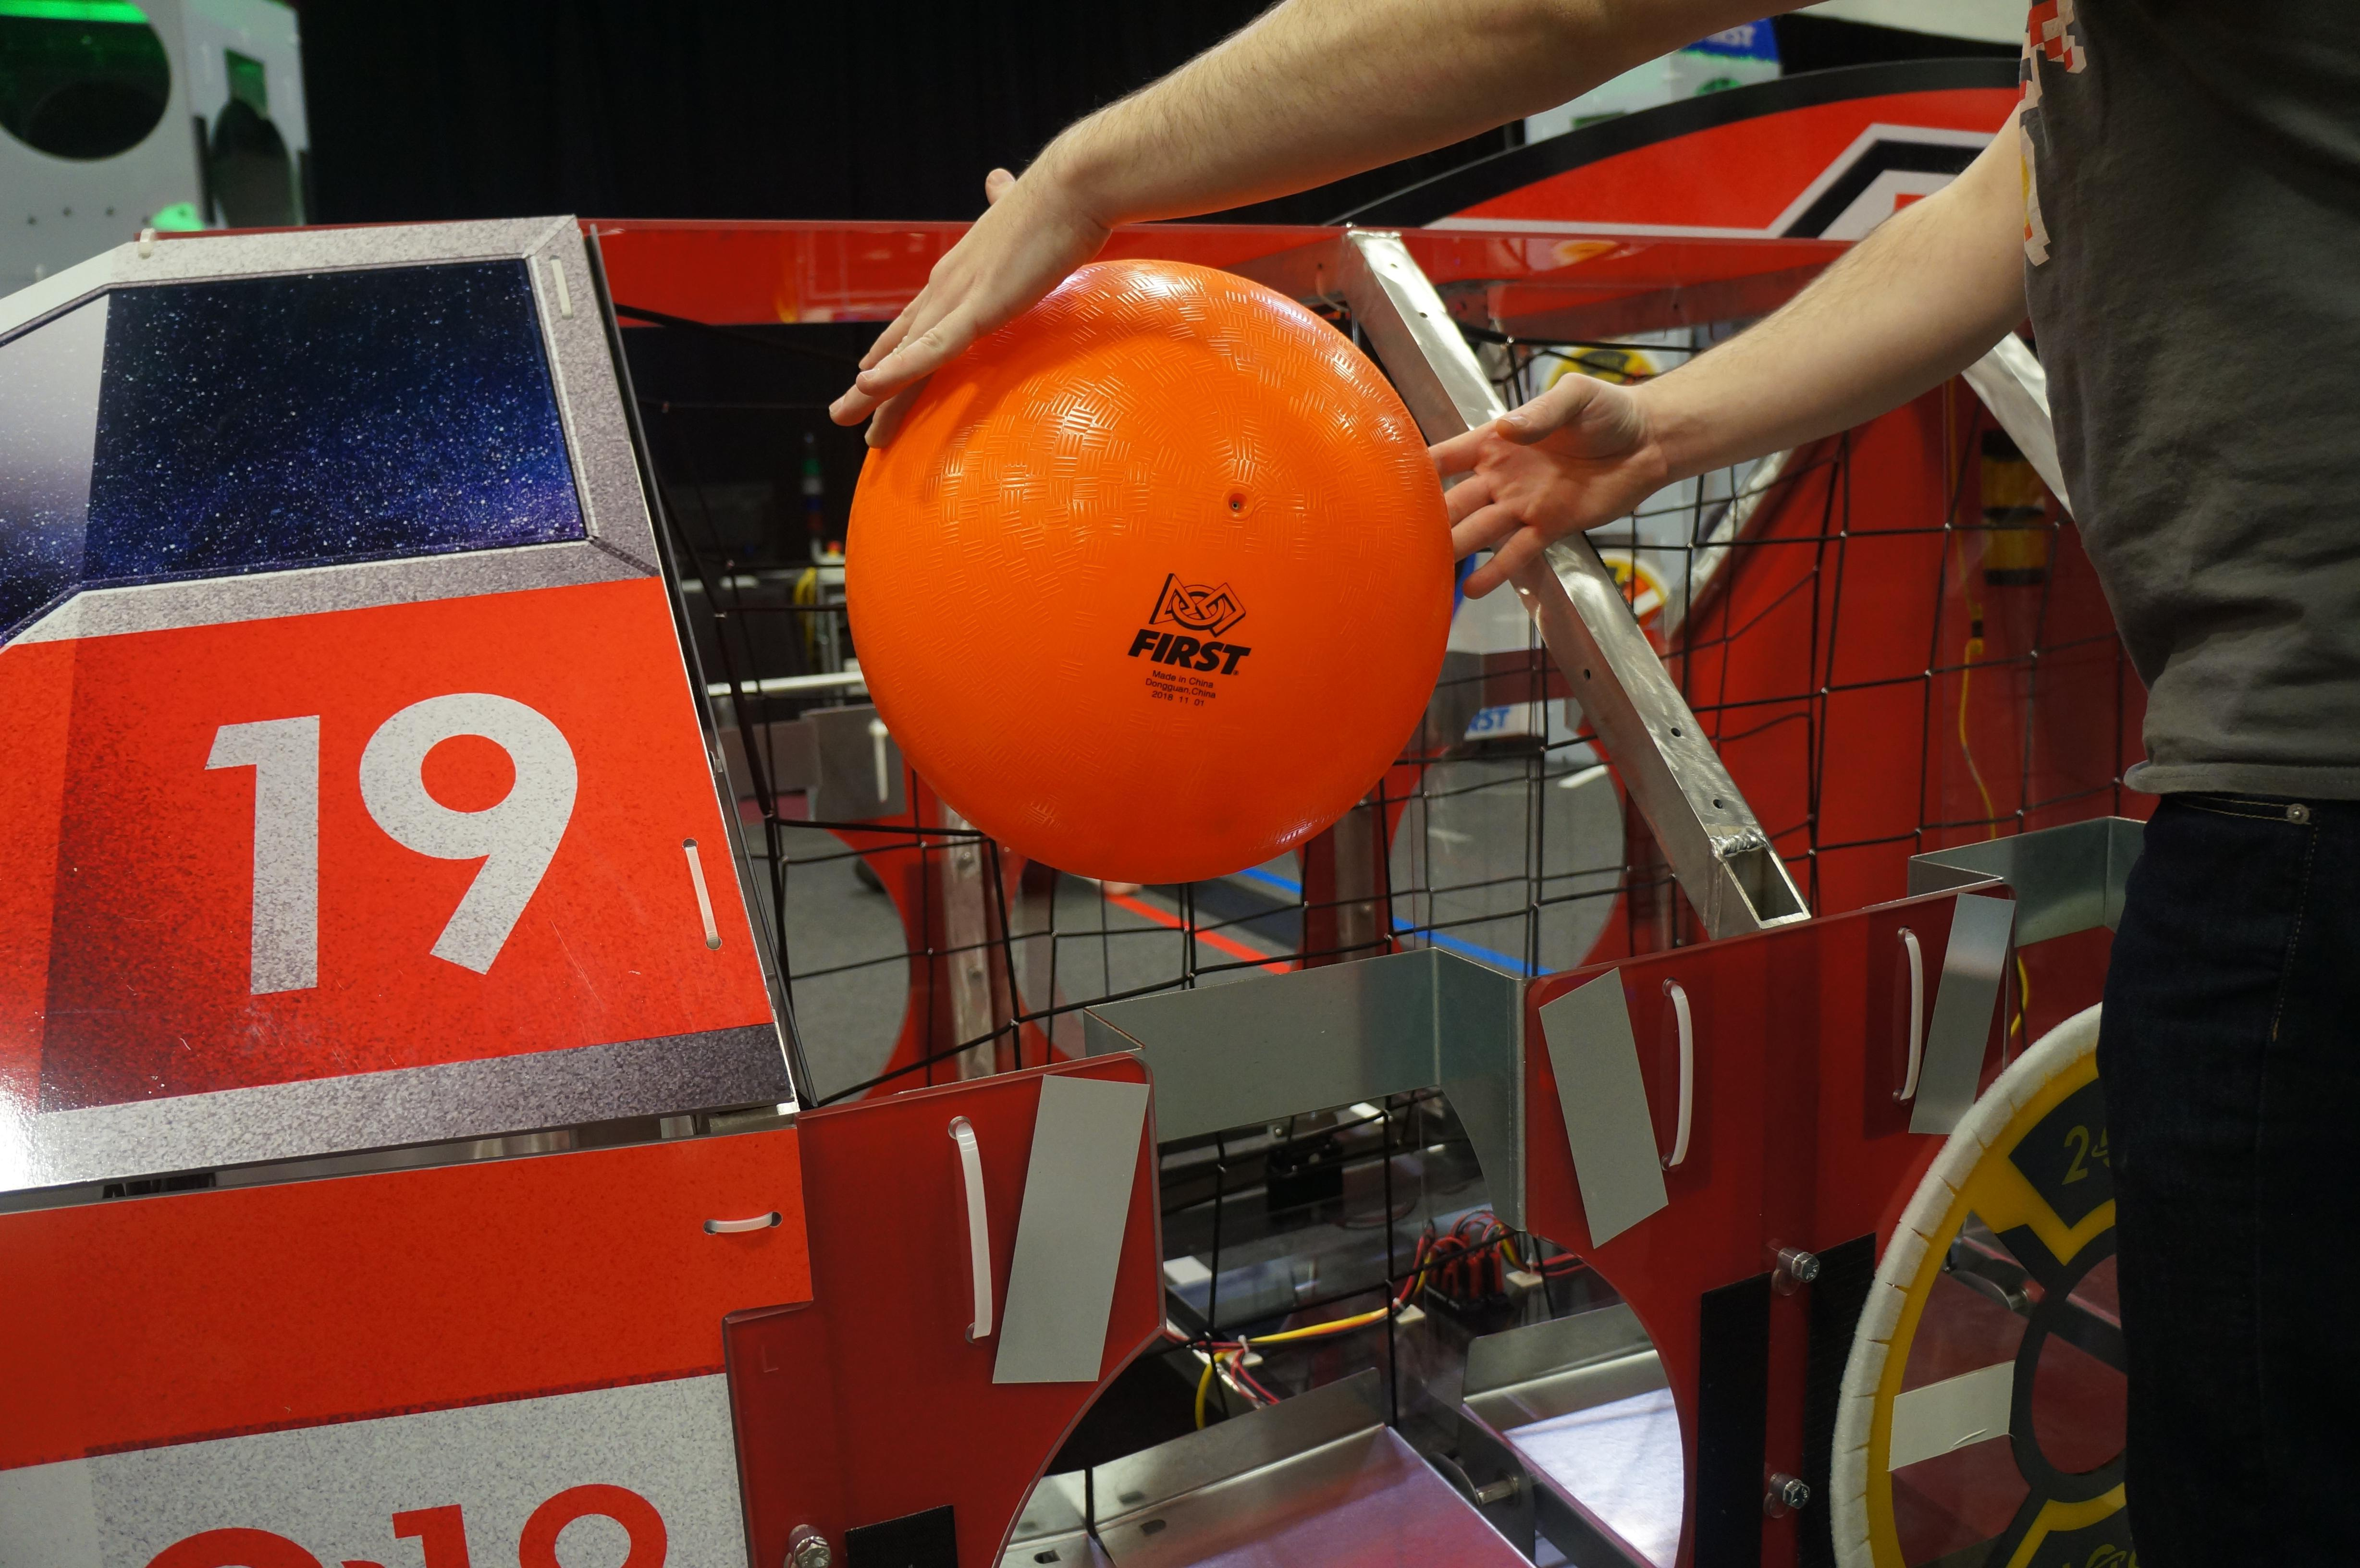Ball: (845, 257, 1459, 884)
Hatch: (1830, 1003, 2143, 1566)
Tape: (987, 1069, 1160, 1393), (1540, 968, 1671, 1248), (1903, 891, 2021, 1139)
